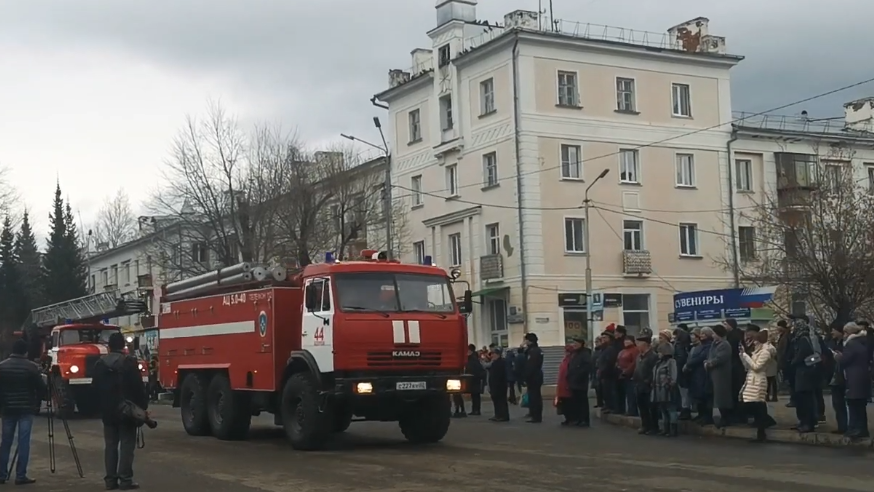fire fighting vehicle: (160, 251, 466, 446), (23, 287, 151, 418)
